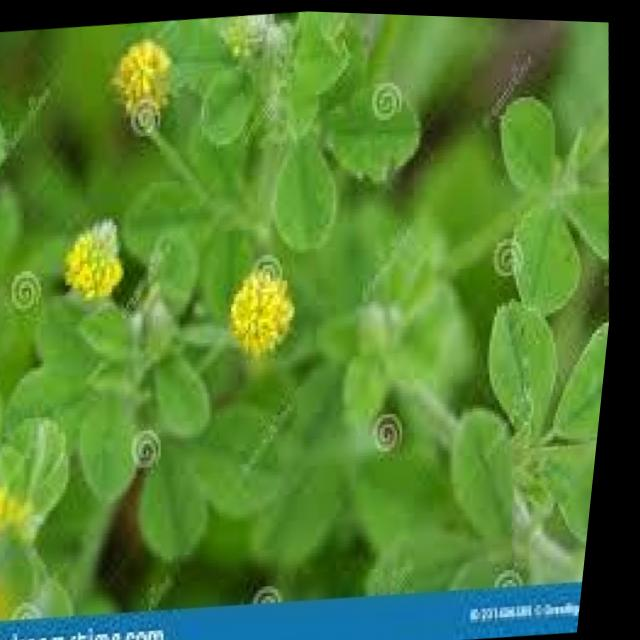Flower: (228, 251, 311, 364), (102, 39, 192, 116), (63, 223, 135, 301)
